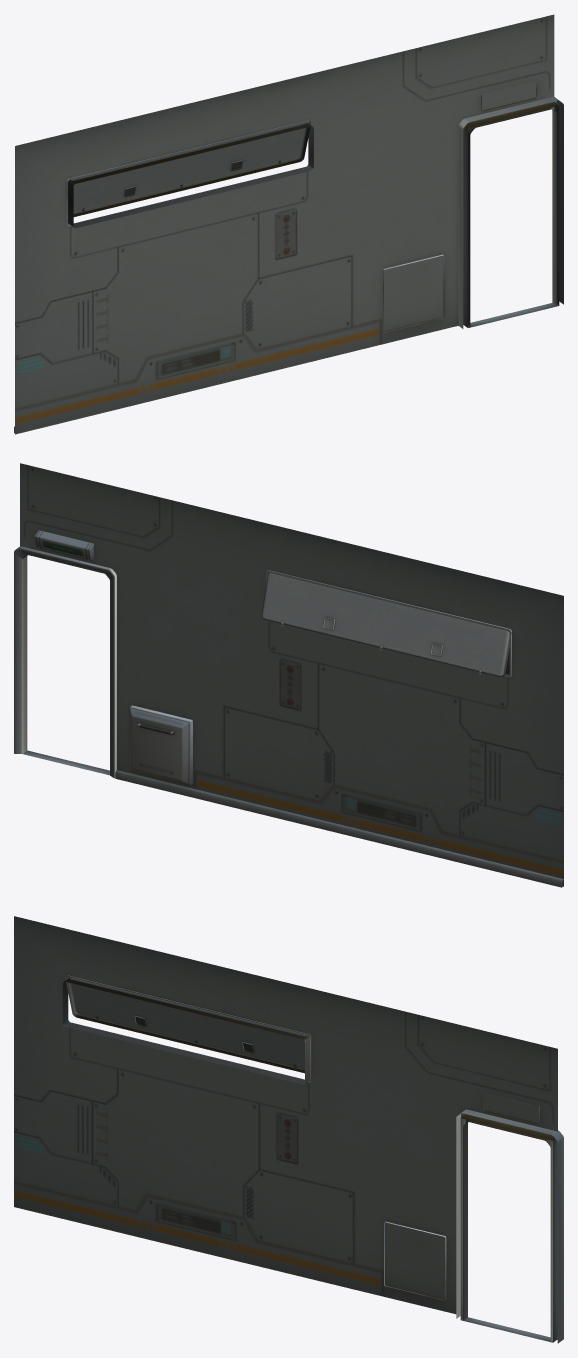
File: Pico_Q_R.fbx
3 views of the same model, one above another, from view 1: azimuth 30°, elevation 25°; view 2: azimuth 150°, elevation 25°; view 3: azimuth 330°, elevation 25° (orthographic).
Visible parts, largest first — view 1: Pico_01_FenKaiQ, qiangban, men; view 2: Pico_01_FenKaiQ, qiangban, men, Pico_01_FenKaiX, Pico_01_XieGui, Pico_01_MenPai; view 3: Pico_01_FenKaiQ, qiangban, men.
Boxes of the visible parts, box(x1,y1,x2,y2) form: Pico_01_FenKaiQ: box(15, 14, 559, 434); qiangban: box(66, 120, 313, 228); men: box(458, 97, 563, 328); Pico_01_FenKaiQ: box(20, 463, 563, 886); qiangban: box(261, 570, 511, 677); men: box(14, 546, 116, 778); Pico_01_FenKaiX: box(115, 770, 563, 887); Pico_01_XieGui: box(129, 705, 192, 785); Pico_01_MenPai: box(34, 530, 93, 560); Pico_01_FenKaiQ: box(14, 916, 557, 1342); qiangban: box(62, 975, 311, 1084); men: box(456, 1109, 563, 1343).
Bounding box in the file's own units: 691 × 350 × 28.64.
